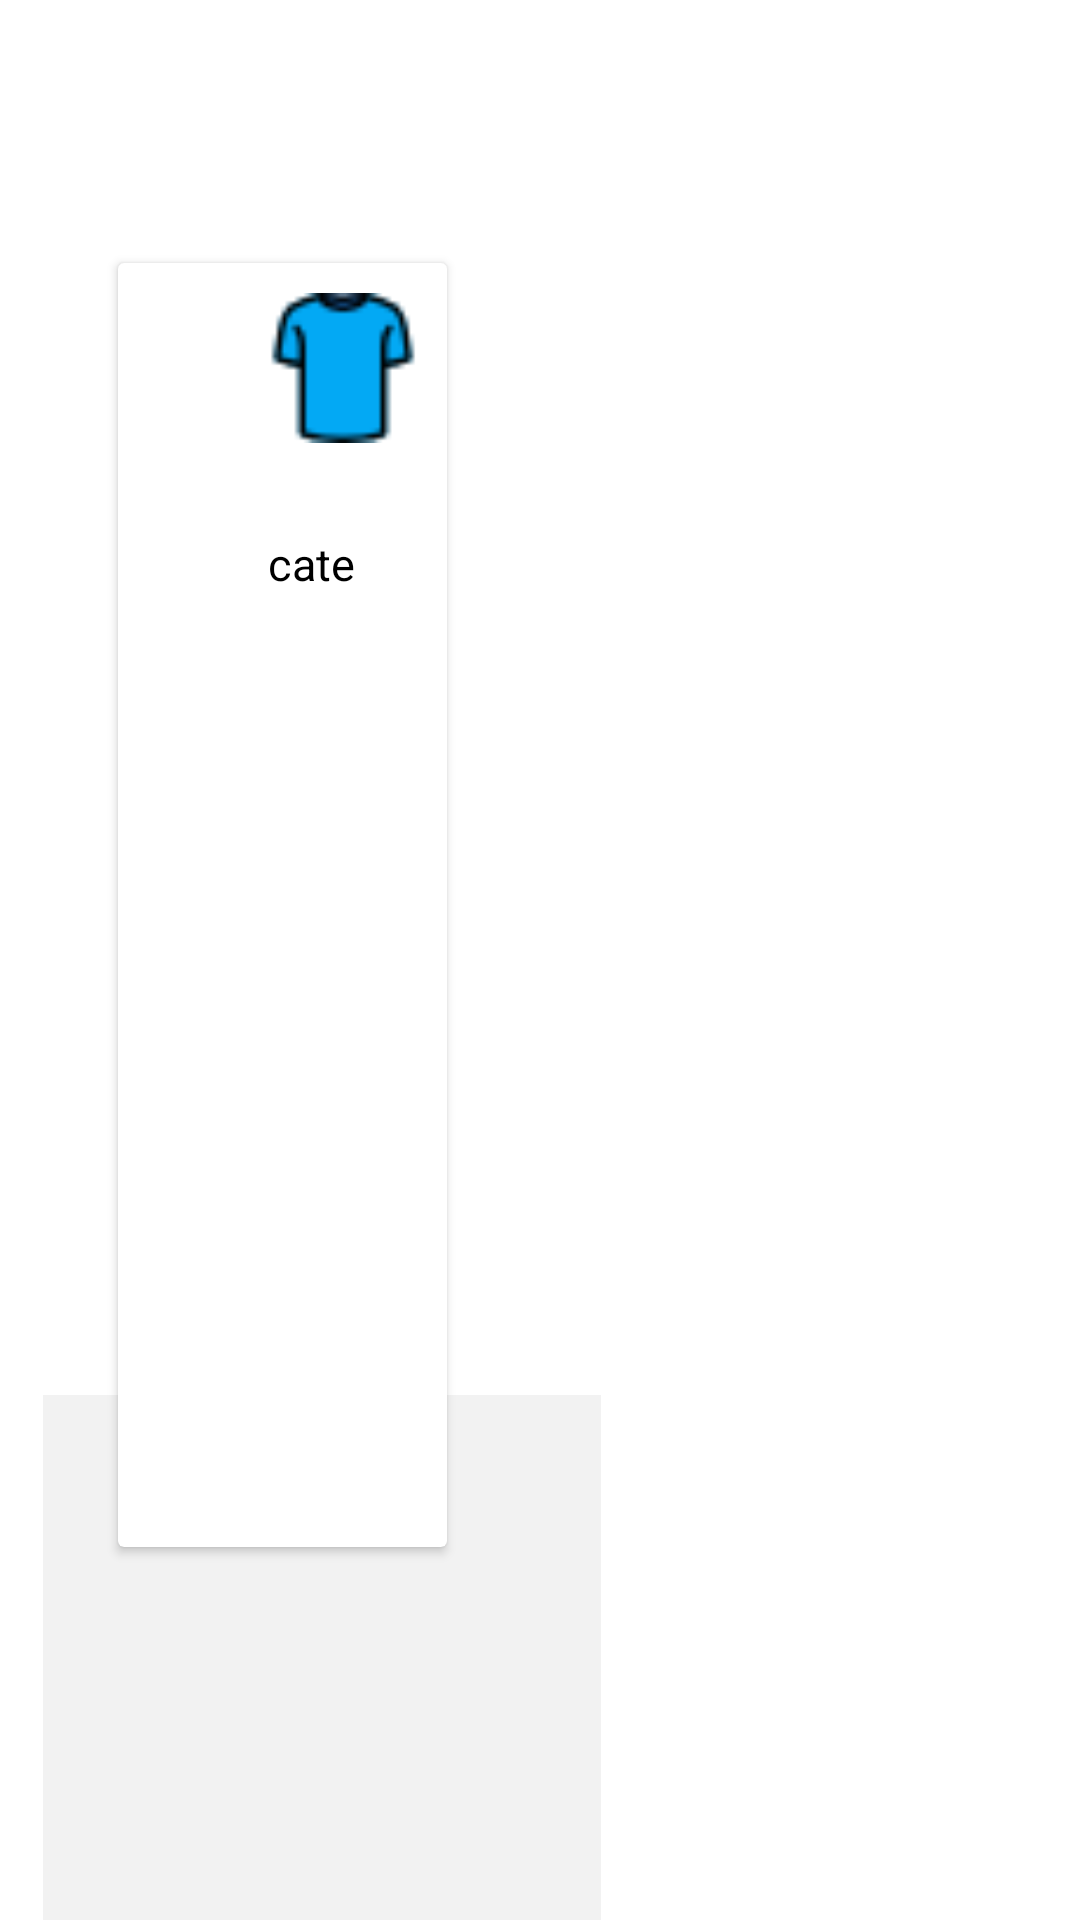

Where icons sit on this 1080px×1920px app screen, as (x1, y1, x2, y2):
shirt: (271, 293, 415, 443)
